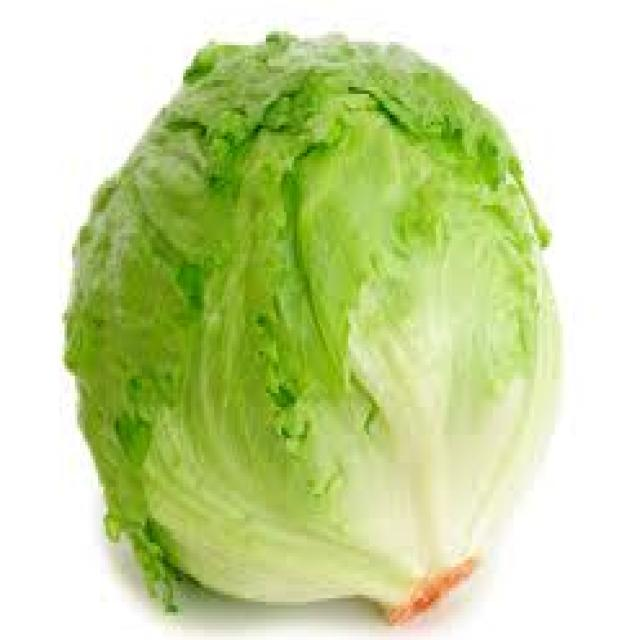cabbage: (54, 24, 560, 619)
